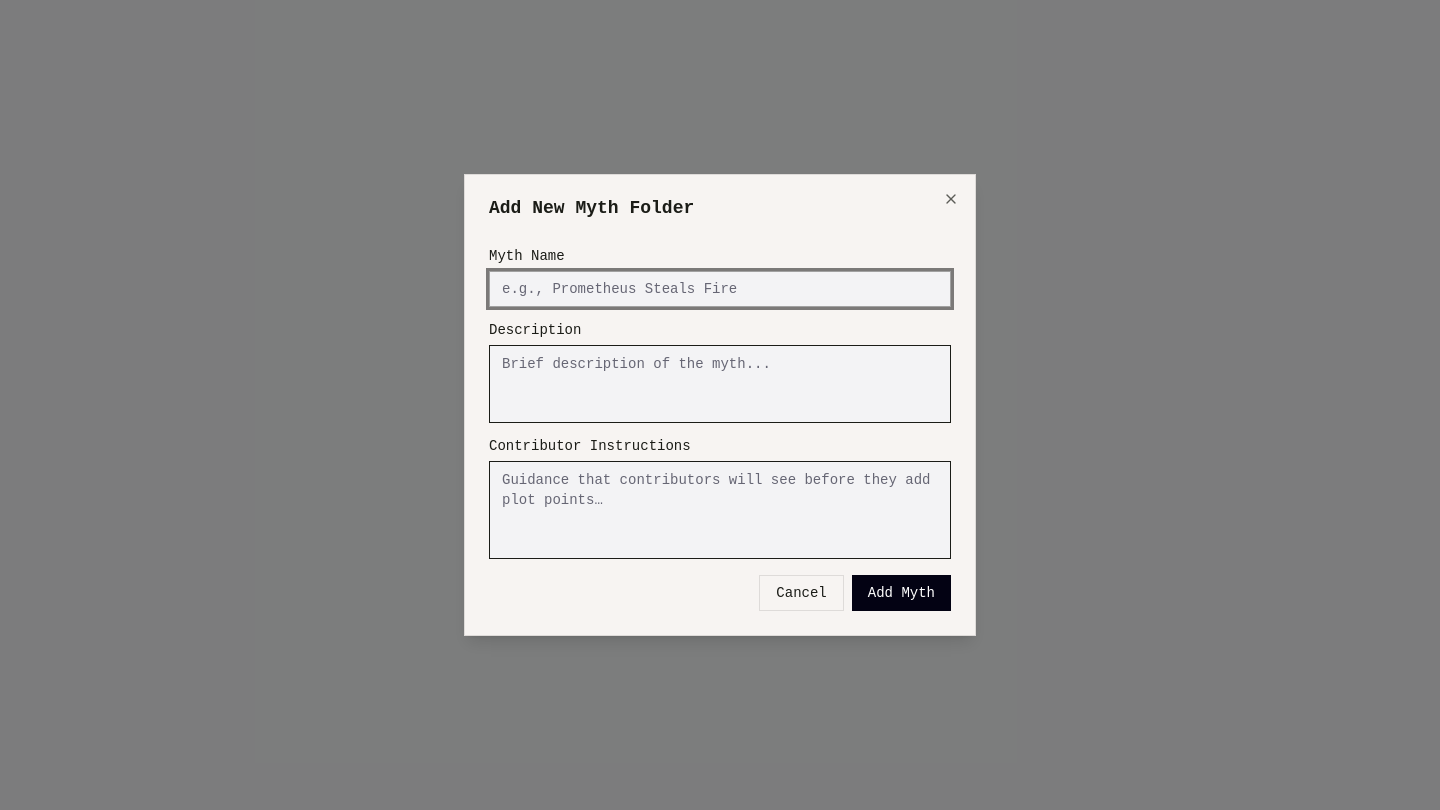
Test case: AddMythDialog › shows error message when submission fails
Type "Prometheus" into the field labelled "Myth Name" at (720,289), box [489,271,951,307]
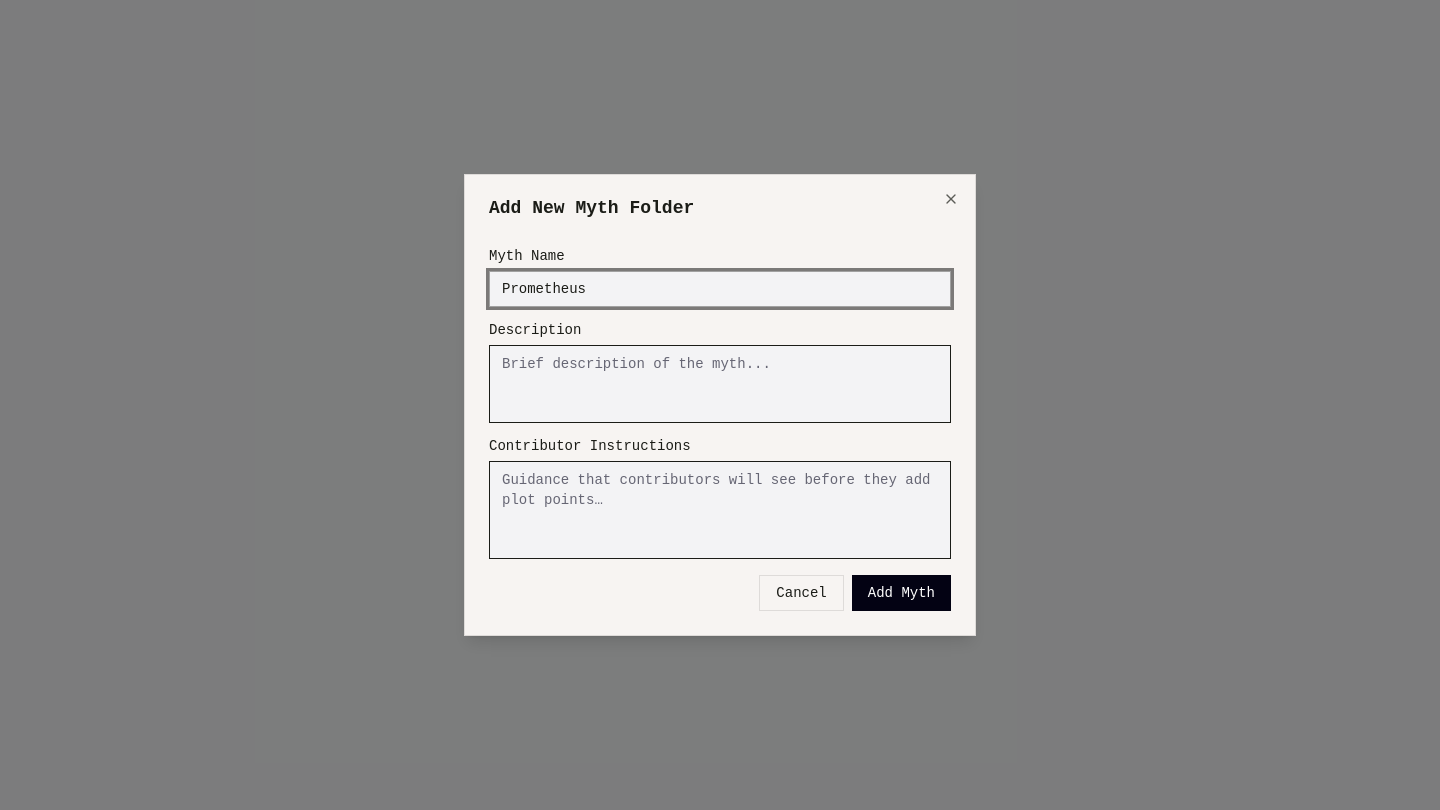
Click the button "Add Myth" at (901,593), box [852,575,951,611]
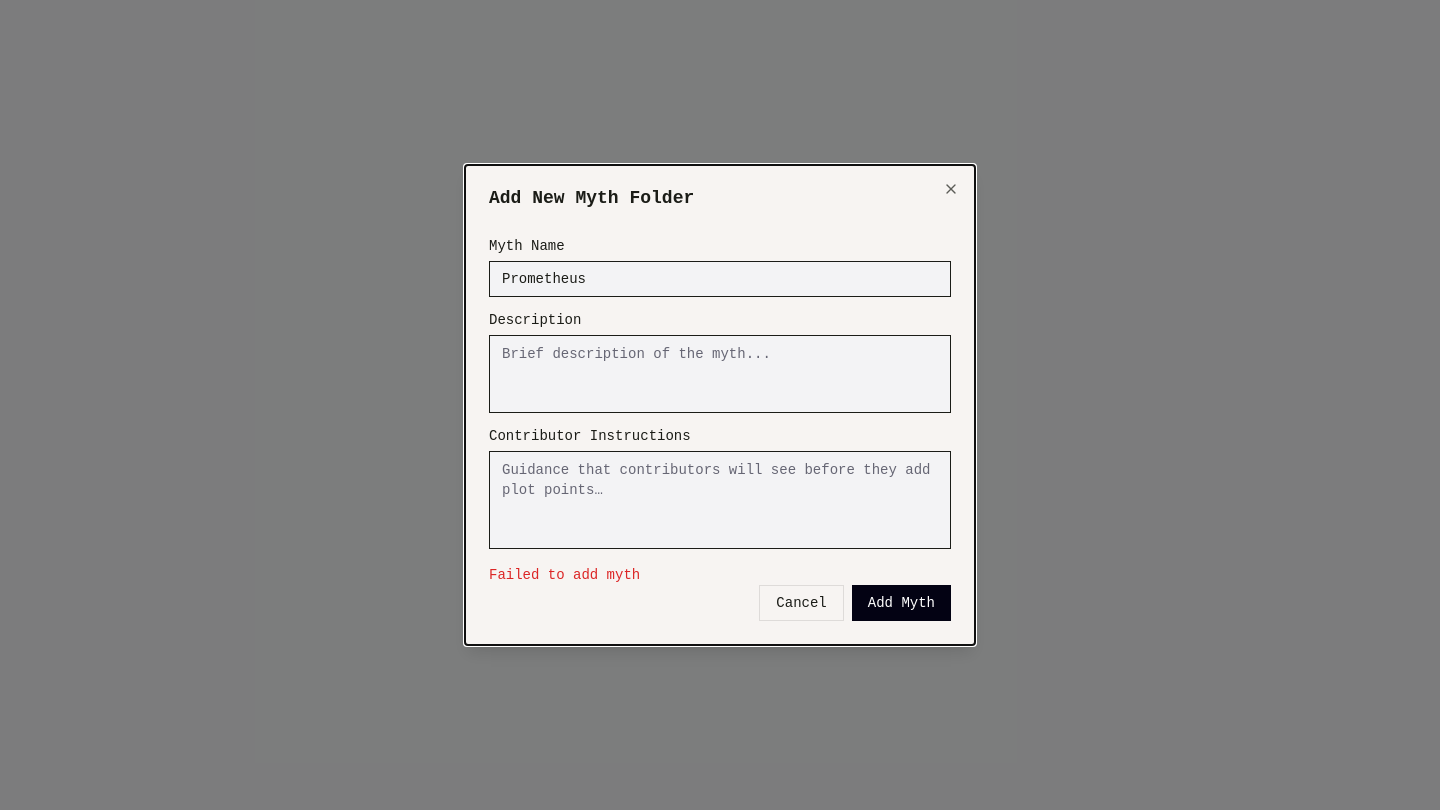
Expected: the text "Failed to add myth" is shown, [489,567,640,583]
